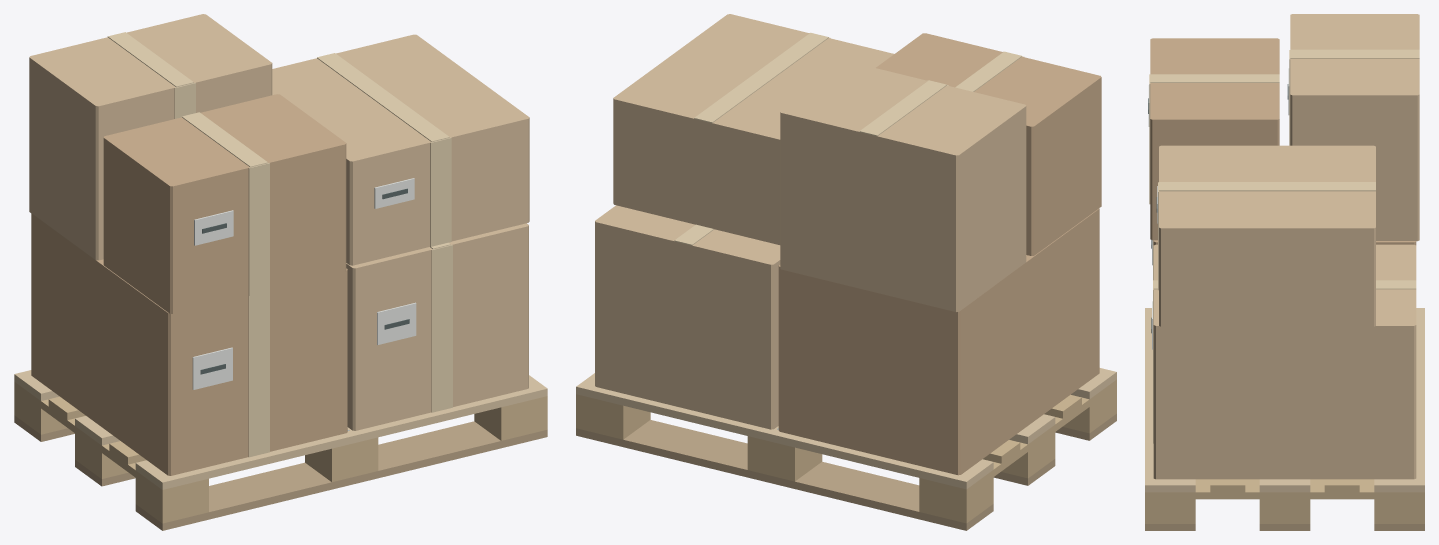
3 renders of one model, left to right at view 1: azimuth 30°, elevation 25°; view 2: azimuth 150°, elevation 25°; view 3: azimuth 270°, elevation 25°, orthographic. The views are drawn at different scales.
Visible parts, largest first — view 1: Materialpall; view 2: Materialpall; view 3: Materialpall.
Boxes of the visible parts, x1,y1,x2,y2 form: Materialpall: [14, 14, 547, 530]; Materialpall: [576, 14, 1116, 530]; Materialpall: [1145, 14, 1424, 530].
Size of the model in its own units: 1.2 by 1.09 by 0.8.
